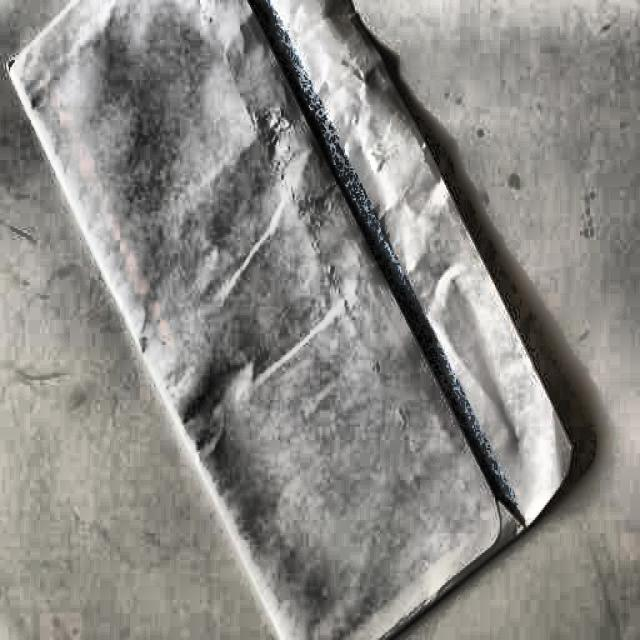paper: (0, 0, 621, 640)
